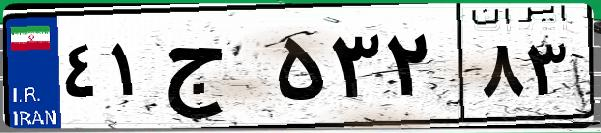1: (110, 28, 158, 98)
2: (385, 28, 445, 110)
3: (330, 28, 385, 110), (525, 38, 570, 115)
4: (57, 26, 110, 100)
5: (270, 28, 330, 110)
8: (475, 38, 525, 113)
ج: (158, 20, 270, 120)
